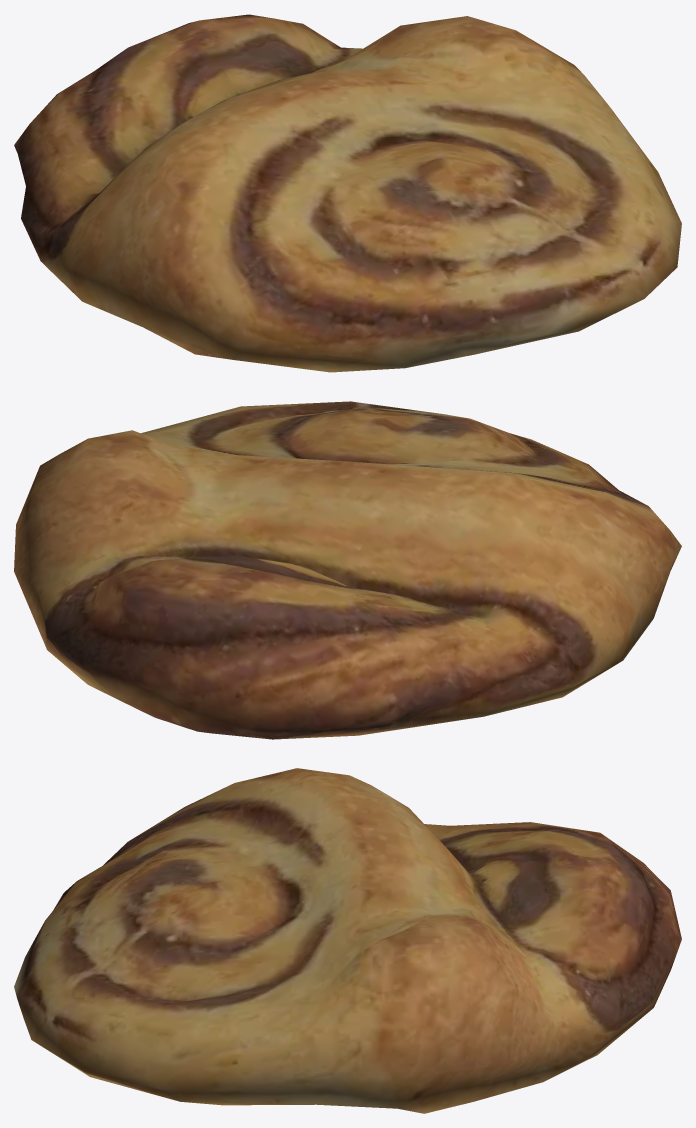
File: 3DPastry003.glb
The picture shows the model from 3 angles, top to bottom: view 1: azimuth 30°, elevation 25°; view 2: azimuth 150°, elevation 25°; view 3: azimuth 270°, elevation 25°; orthographic projection. The views are drawn at different scales.
Visible parts, largest first — view 1: 3DPastry003; view 2: 3DPastry003; view 3: 3DPastry003.
Boxes of the visible parts, x1,y1,x2,y2 form: 3DPastry003: [14, 14, 681, 372]; 3DPastry003: [14, 401, 681, 739]; 3DPastry003: [14, 768, 681, 1113].
Size of the model in its own units: 0.1805 by 0.0516 by 0.1946.
Materials: 1 (1 with a texture image).
